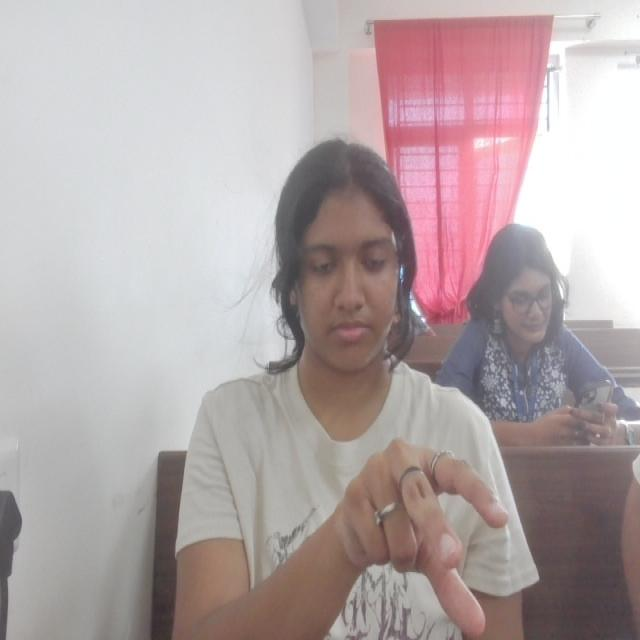no: (336, 429, 511, 640)
